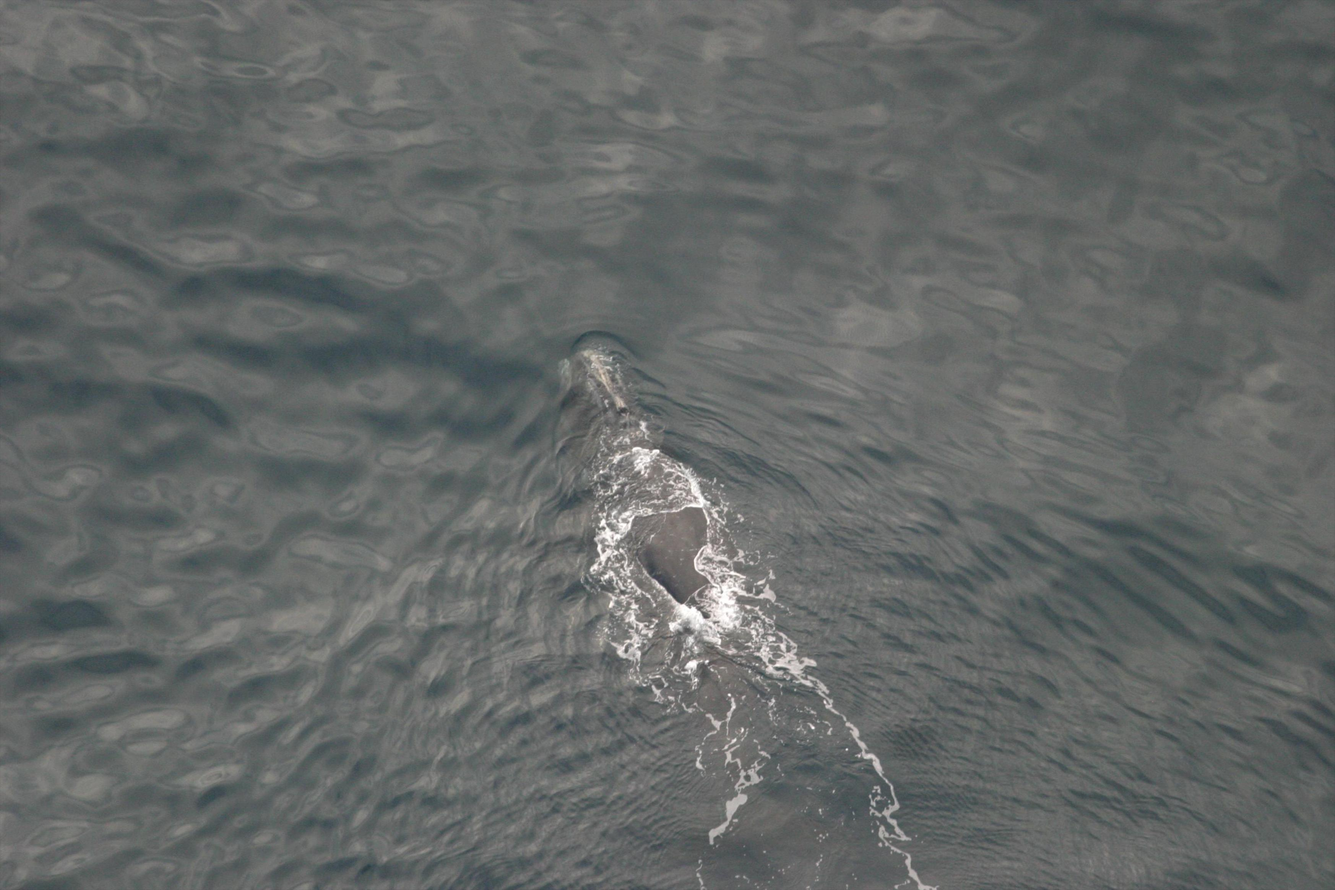whale: (546, 339, 743, 679)
